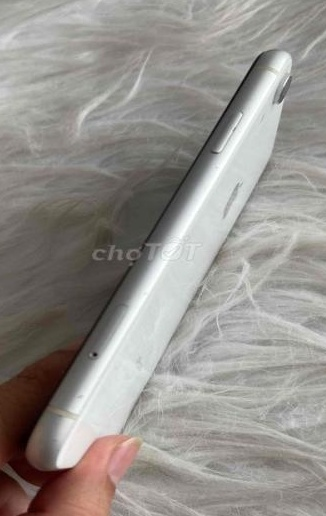scratch: (44, 429, 75, 449), (62, 388, 92, 403), (255, 106, 274, 129), (208, 159, 228, 180)
